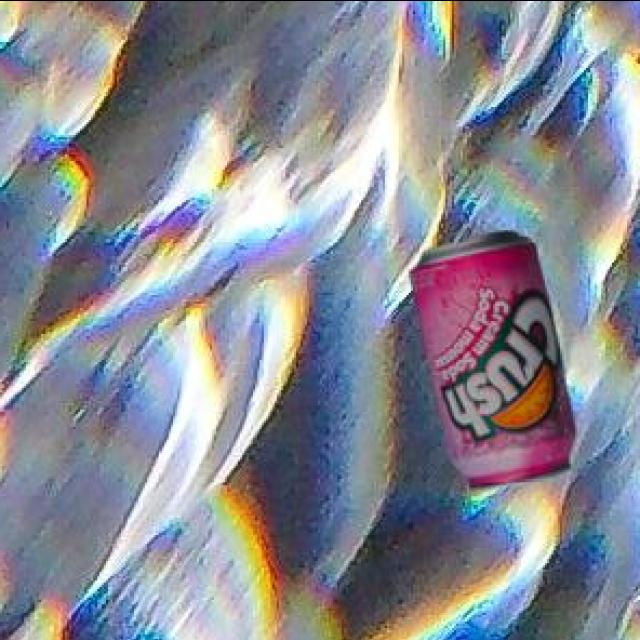logam: (414, 228, 578, 485)
